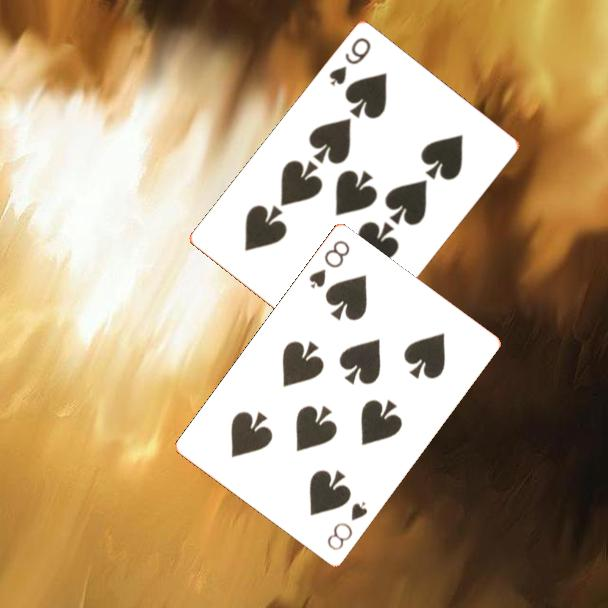s08: (305, 237, 353, 292), (323, 498, 370, 554)
s09: (325, 34, 374, 90)
